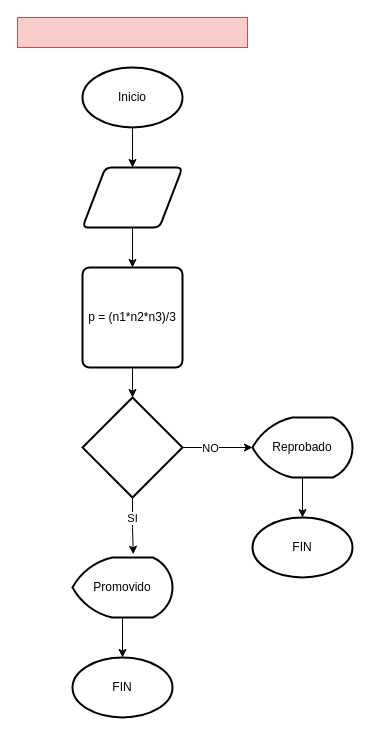
The diagram is 371 pixels wide and 736 high, and some of its shapes have lost their labels. The shapes that lost their labels are listed below. From the top down, each one's centre as x and y in pixels, then its label:
the point at 132,32: EJERCICIO: PROMEDIO DE 3 NOTAS
the point at 132,197: n1, n2, n3
the point at 132,447: p >=70
